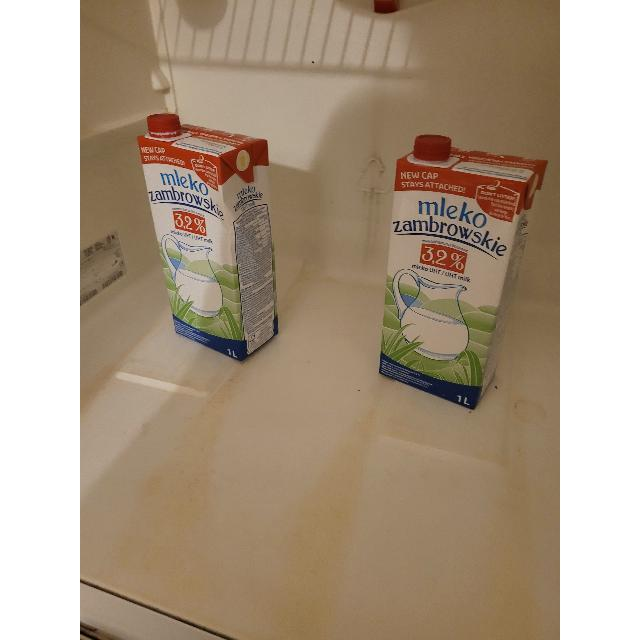milk: (380, 137, 536, 407), (136, 118, 282, 360)
